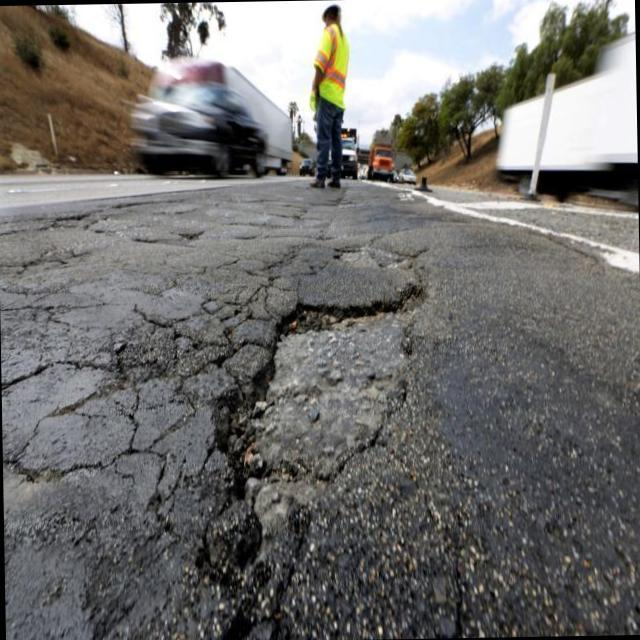Pothole: (228, 312, 406, 536)
